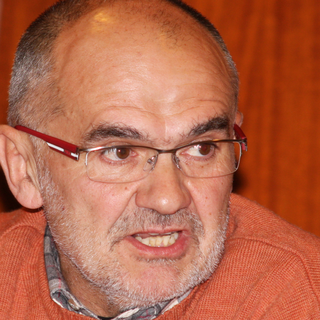eye: (92, 141, 138, 163), (176, 140, 223, 161)
